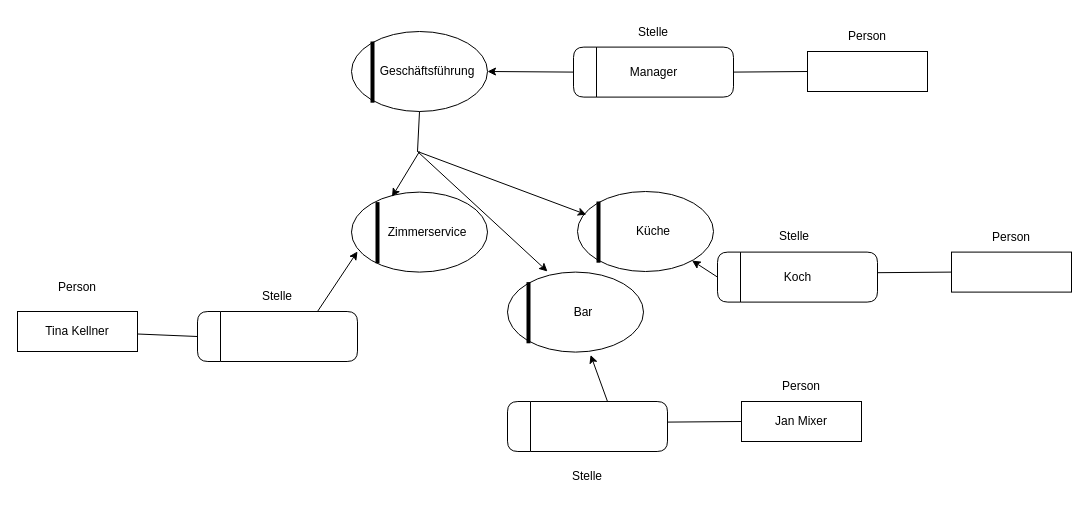
Image size: 1089x509. Some labels were removed from this diagram. The centre of each missing label's shape, as x and y in pixels:
"Barkeeper" goes at [587,426].
"Hans Leiter" goes at [867,71].
"Kellner" goes at [277,336].
"Kira Kitchen" goes at [1011,271].
